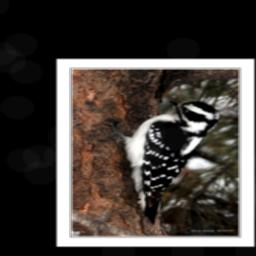Woodpecker: (105, 101, 220, 229)
